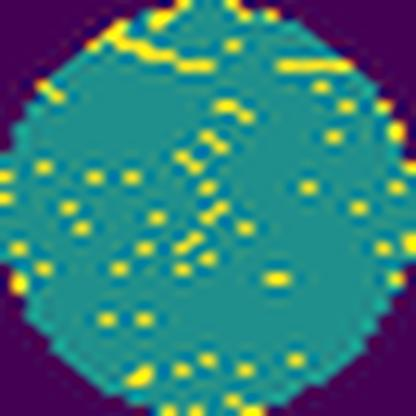Scratch: (84, 17, 220, 77), (272, 58, 352, 78)
